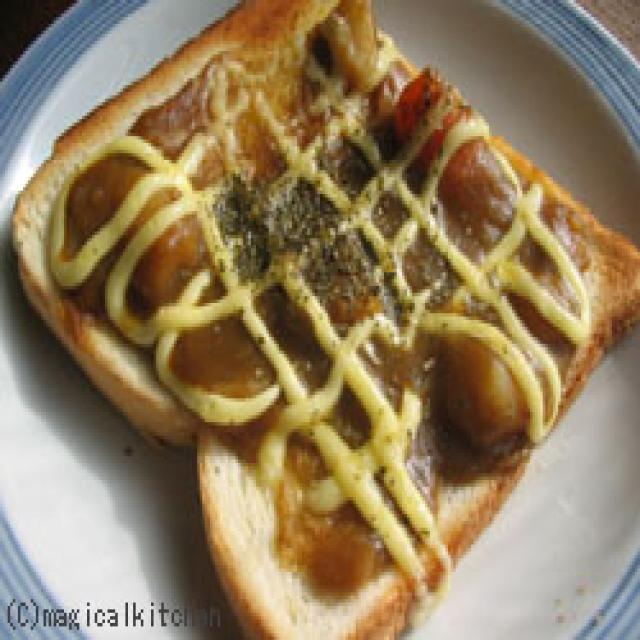面包点心: (2, 3, 635, 623)
